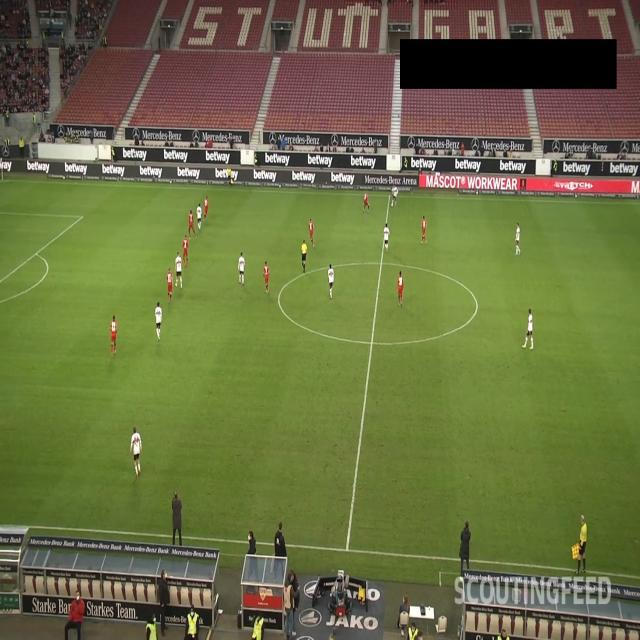ball: (391, 202, 394, 208)
